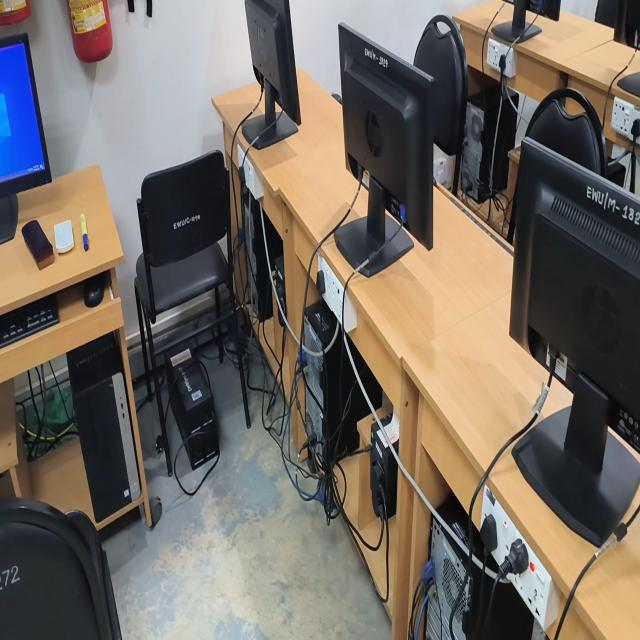Chair: (134, 150, 234, 468), (0, 498, 122, 639), (414, 15, 468, 194), (526, 88, 608, 177)
Cpu: (425, 492, 534, 639), (67, 333, 139, 522), (303, 299, 371, 469), (462, 84, 519, 202), (243, 191, 283, 322), (345, 336, 382, 409)
Fire Extinguisher: (67, 0, 113, 63), (0, 0, 31, 26)
Keyboard: (0, 295, 59, 348)
Monitor: (510, 139, 640, 543), (334, 24, 436, 277), (0, 33, 52, 244), (242, 0, 301, 148), (511, 0, 560, 38), (613, 0, 640, 49), (618, 72, 640, 97)
Mouse: (84, 276, 104, 308)
